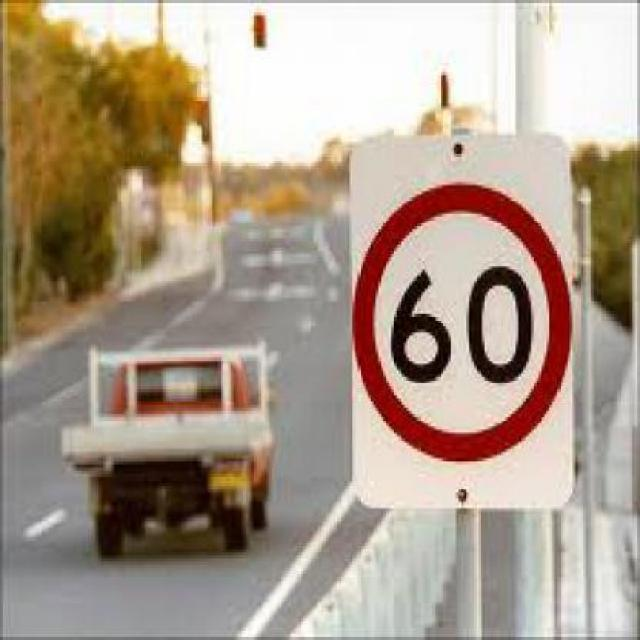Ograniczenie predkosci do 60: (350, 184, 570, 462)
